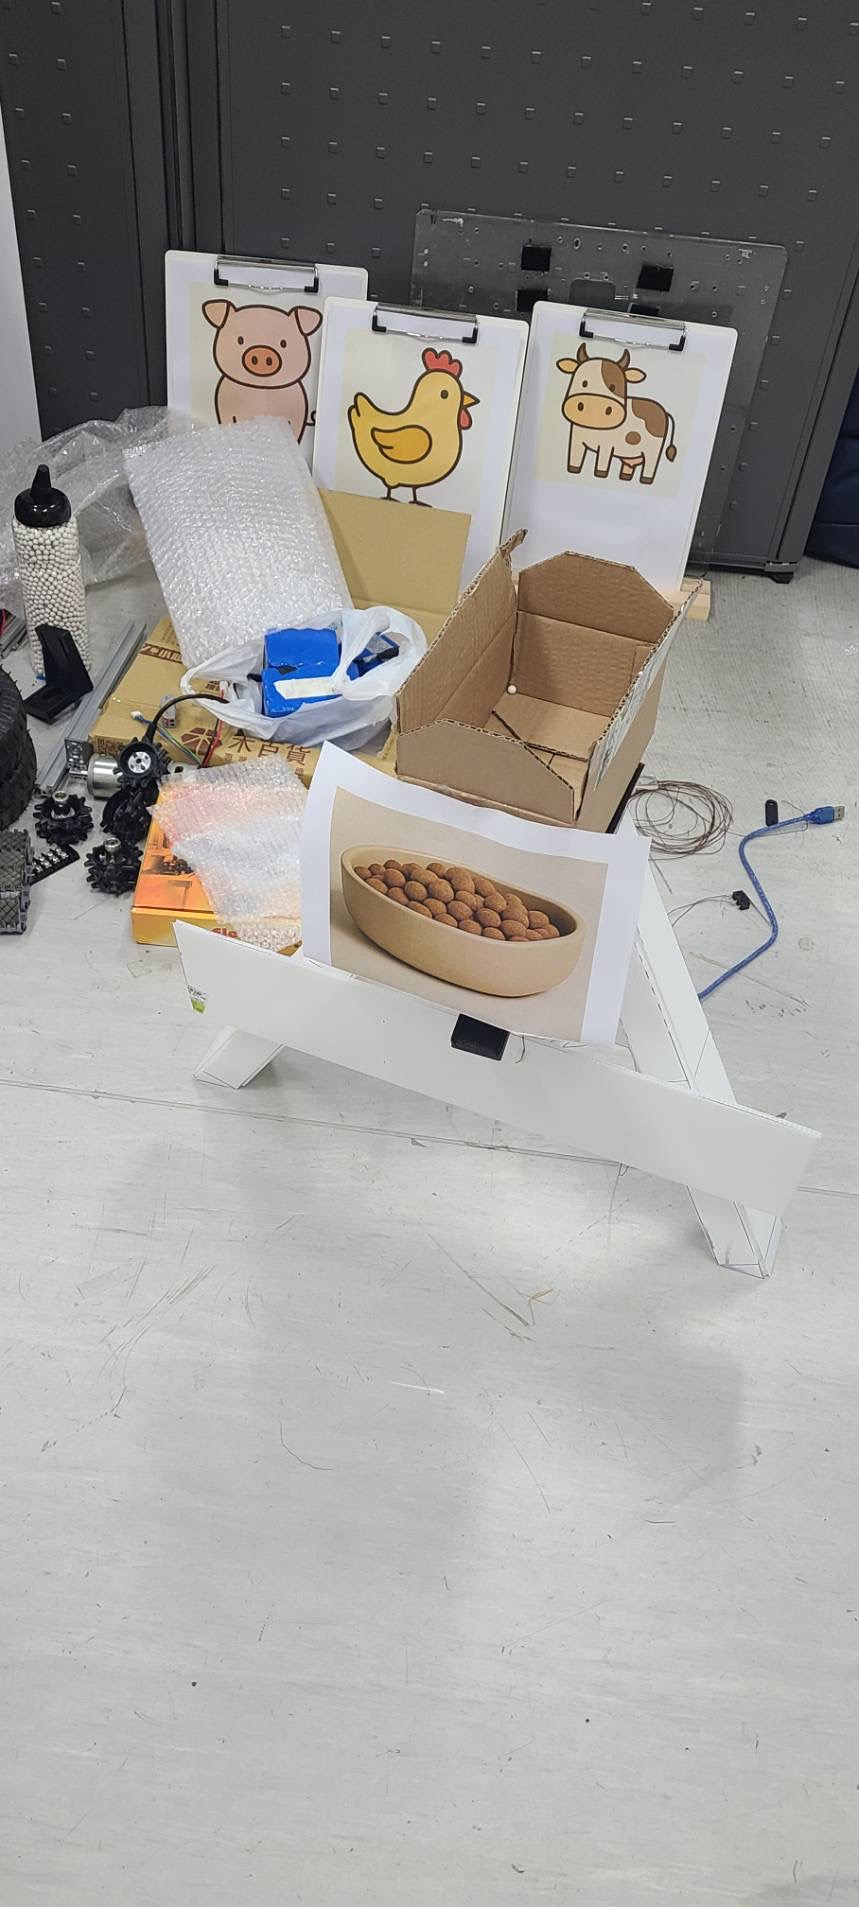pig: (178, 287, 330, 463)
